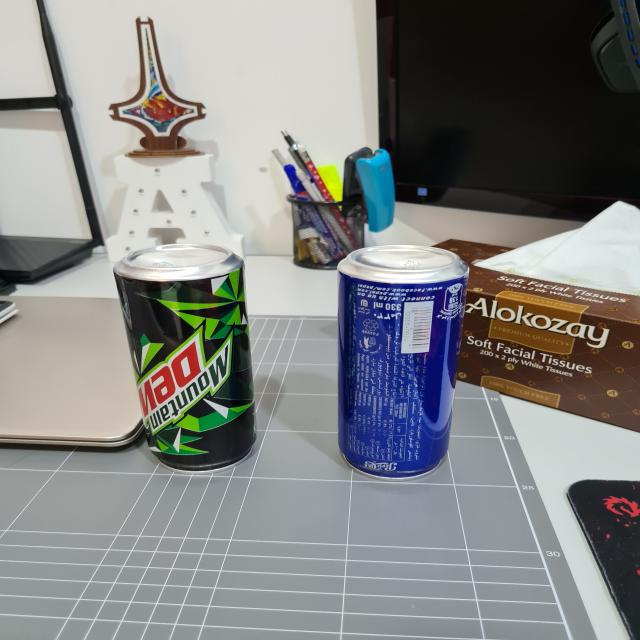non-organic waste: (108, 242, 262, 475), (331, 242, 472, 483)
